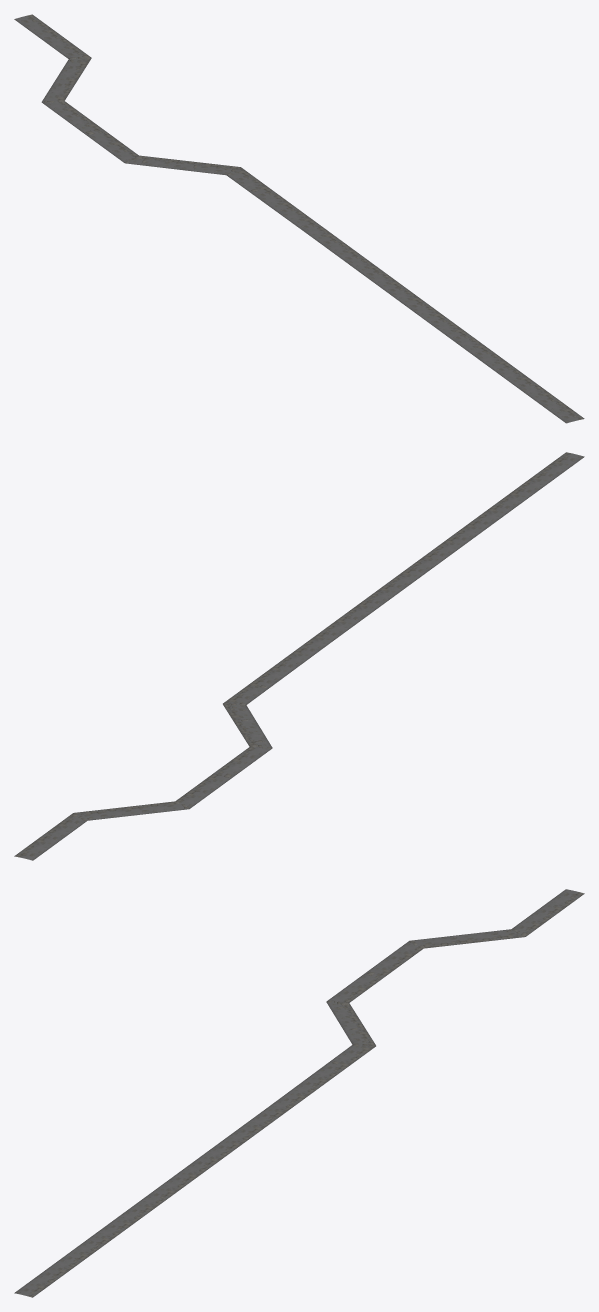
Rendered from SM_ENV_LKNVLD_Ground_Left_bigSideTrim.FBX.
3 renders of one model, top to bottom at view 1: azimuth 30°, elevation 25°; view 2: azimuth 150°, elevation 25°; view 3: azimuth 330°, elevation 25°, orthographic.
Parts seen in each view (by area): view 1: SM_ENV_LKNVLD_Ground_Left_bigSideTrim; view 2: SM_ENV_LKNVLD_Ground_Left_bigSideTrim; view 3: SM_ENV_LKNVLD_Ground_Left_bigSideTrim.
Part boxes in pixels (x1,y1,x2,y2): SM_ENV_LKNVLD_Ground_Left_bigSideTrim: (14,14,584,423); SM_ENV_LKNVLD_Ground_Left_bigSideTrim: (14,452,584,860); SM_ENV_LKNVLD_Ground_Left_bigSideTrim: (14,889,584,1297).
Bounding box in the file's own units: 1137 × 10.64 × 13047.
